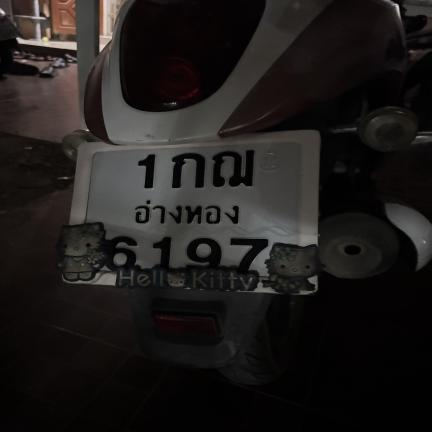1: (128, 150, 162, 189), (146, 234, 173, 268)
6: (100, 235, 141, 271)
7: (228, 235, 269, 273)
9: (182, 234, 225, 269)
A01: (163, 149, 207, 191)
A12: (208, 147, 257, 189)
ATG: (124, 195, 252, 228)
